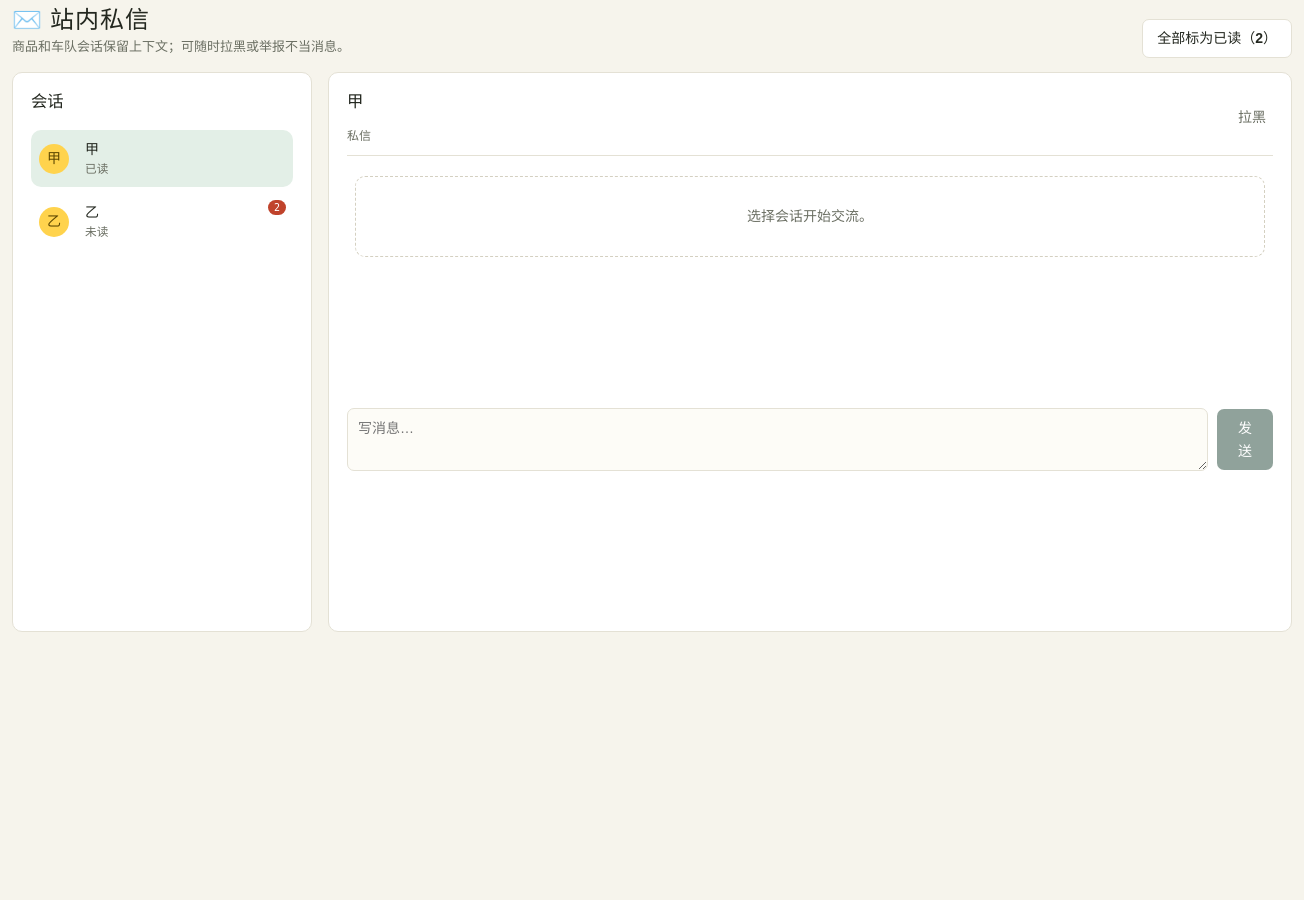
Scenario: major views › marks all private messages read without clearing system notifications
Click the button "全部标为已读（2）". click: click(1217, 39)
box: [1142,19,1292,58]
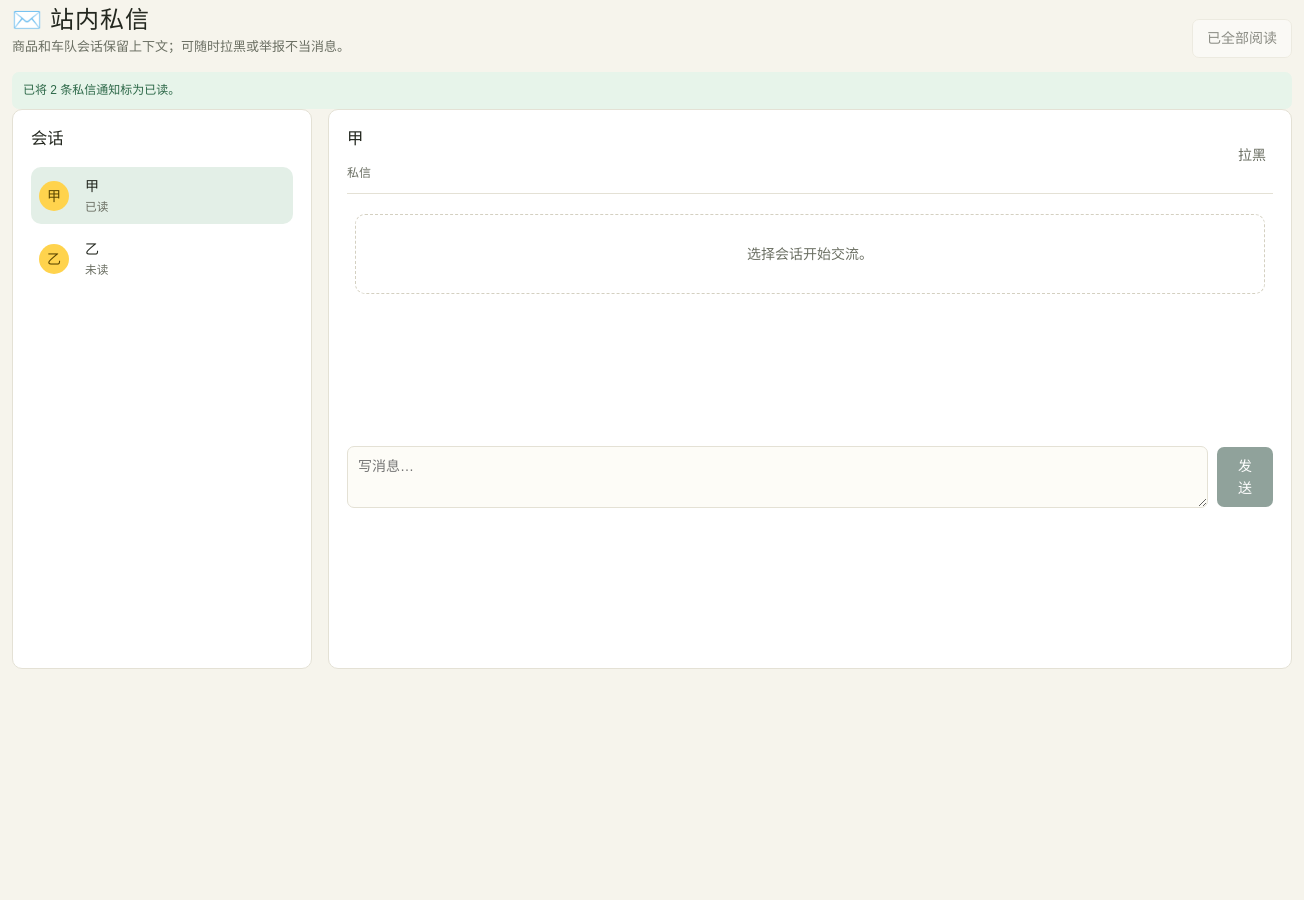
Now the text "已将 2 条私信通知标为已读" is shown, box [23,83,180,97]
